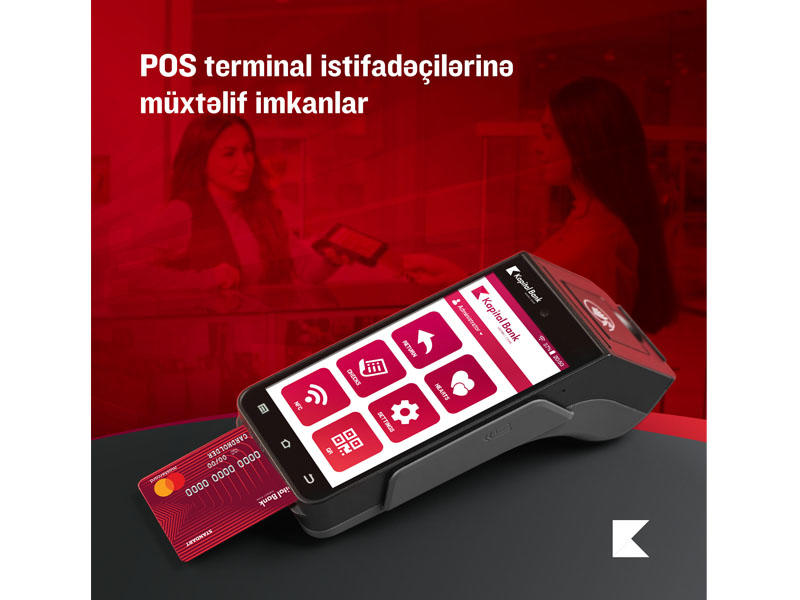Kapital Bank: (471, 283, 489, 301)
